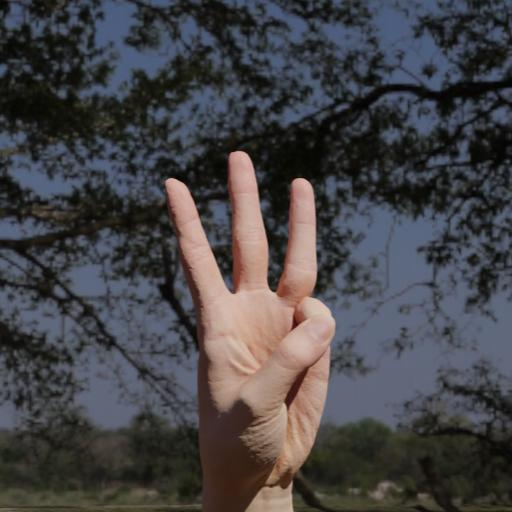W: (154, 140, 366, 502)
